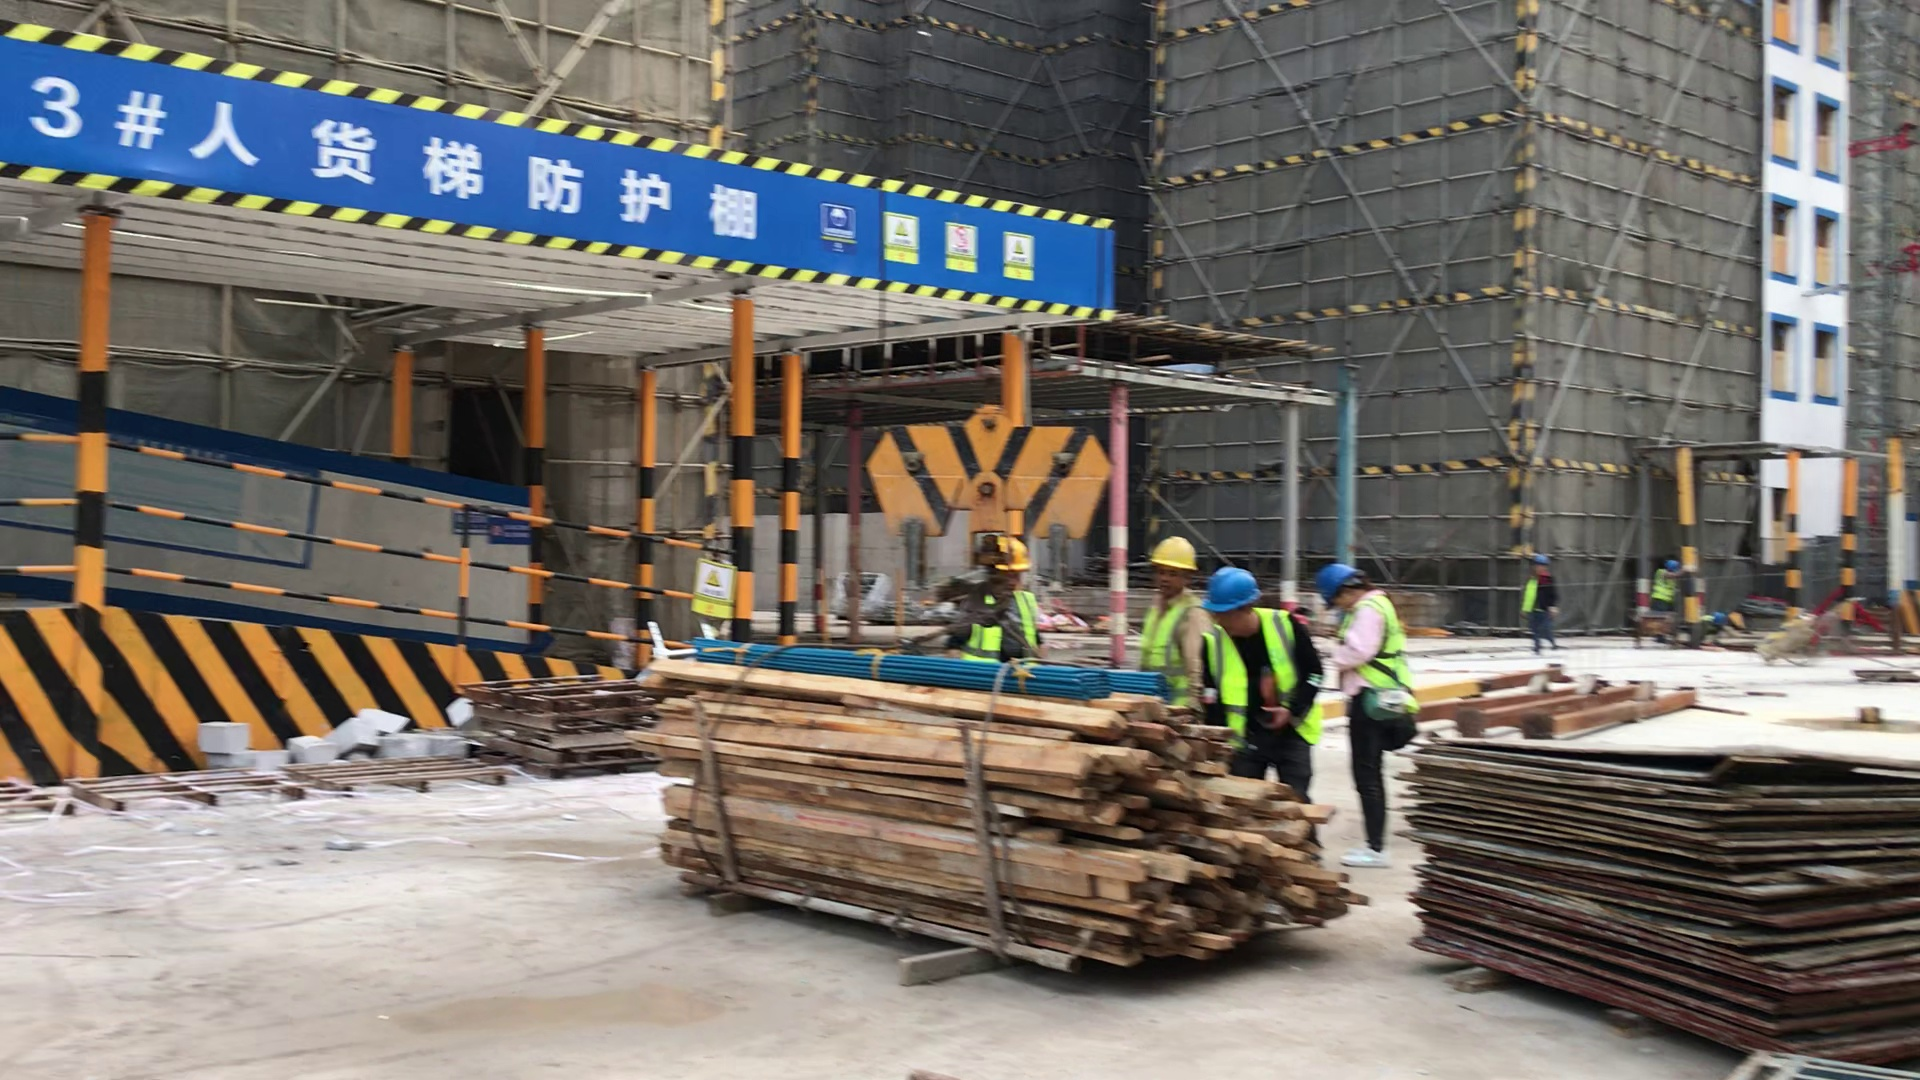board: (1411, 723, 1920, 1071)
handcart: (1754, 609, 1854, 663)
helmet: (1203, 563, 1261, 613), (1145, 536, 1196, 573), (1315, 561, 1354, 604), (1530, 554, 1551, 567), (1714, 612, 1726, 628), (1665, 560, 1679, 572)
hook: (852, 401, 1136, 531)
person: (1316, 561, 1417, 869), (1204, 561, 1322, 776), (950, 539, 1042, 664), (1135, 535, 1202, 705), (1521, 552, 1563, 652), (1647, 557, 1680, 610), (1687, 608, 1730, 649)
vest: (1205, 616, 1308, 741), (1344, 594, 1416, 713), (1137, 590, 1193, 697), (968, 591, 1043, 659), (1652, 566, 1673, 603)
wood: (638, 656, 1378, 982)
